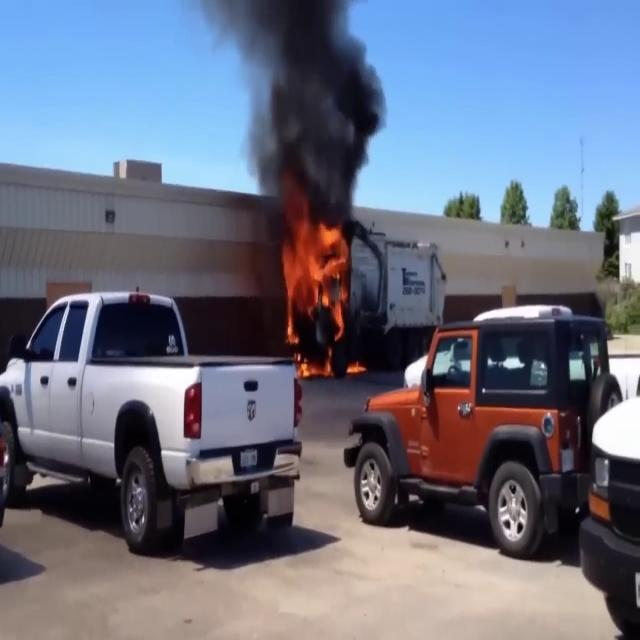Fire: (278, 208, 350, 366)
Smoke: (193, 1, 387, 215)
